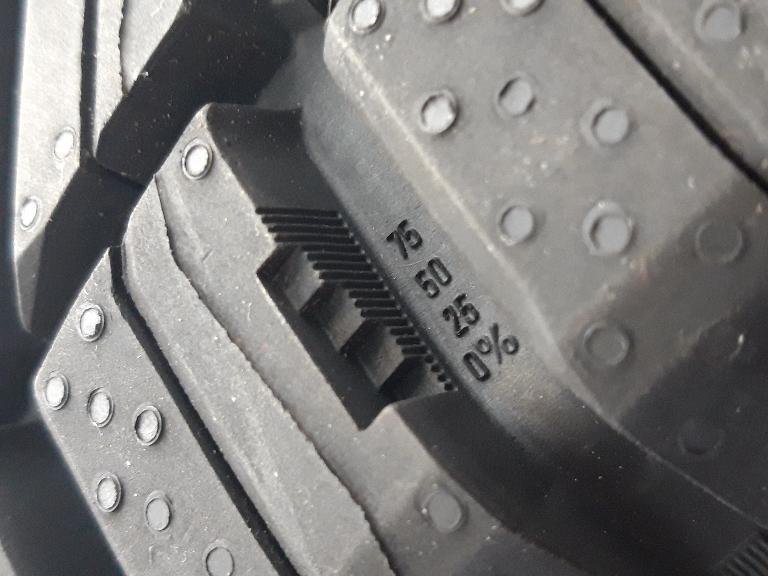temoin:100: (237, 194, 475, 447)
